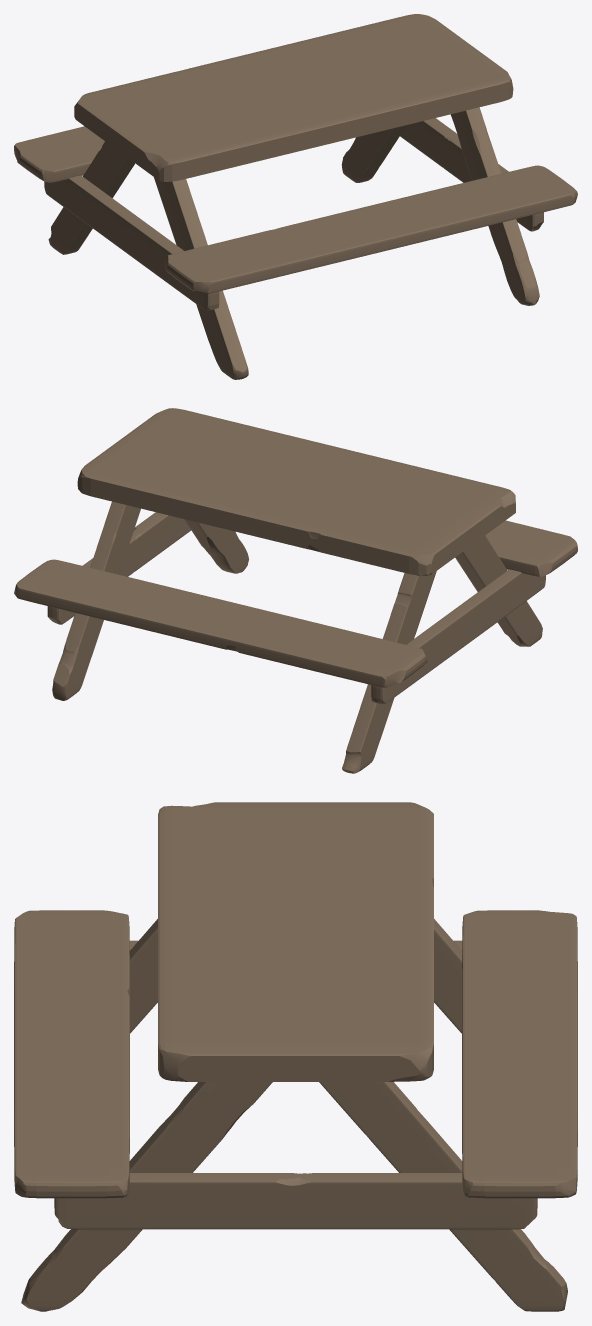
Rendered from picnic table.fbx.
3 renders of one model, top to bottom at view 1: azimuth 30°, elevation 25°; view 2: azimuth 150°, elevation 25°; view 3: azimuth 270°, elevation 25°, orthographic. The views are drawn at different scales.
Parts seen in each view (by area): view 1: Cube.004_dmg; view 2: Cube.004_dmg; view 3: Cube.004_dmg.
Boxes of the visible parts, x1,y1,x2,y2 form: Cube.004_dmg: (14,14,577,379); Cube.004_dmg: (14,408,577,773); Cube.004_dmg: (14,802,577,1311).
Size of the model in its own units: 471 by 220 by 408.
